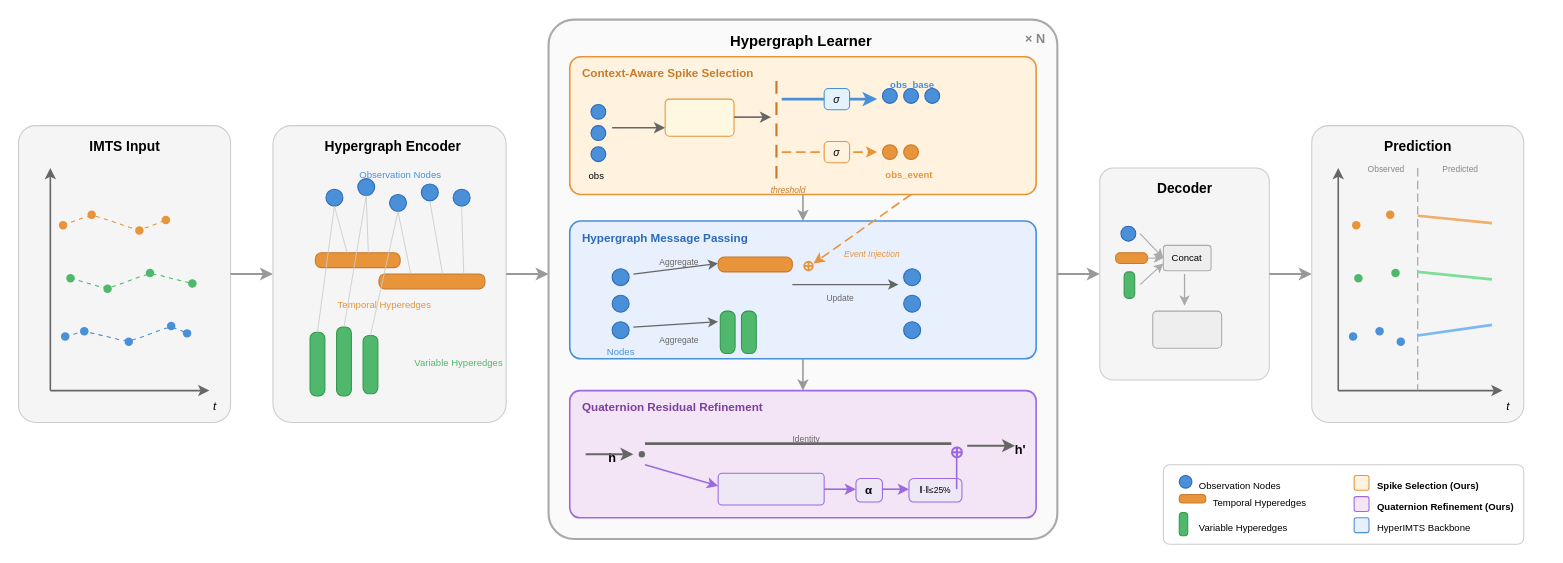
The diagram is 1563 pixels wide and 563 high, and some of its shapes have lost their labels. The box of each missing label's shape, as (x1, y1, x2, y2) in pixels:
Linear Projection: (1152, 310, 1222, 348)
QuaternionLinear ℍ: (717, 472, 824, 505)
Variable Context: (664, 98, 734, 136)
